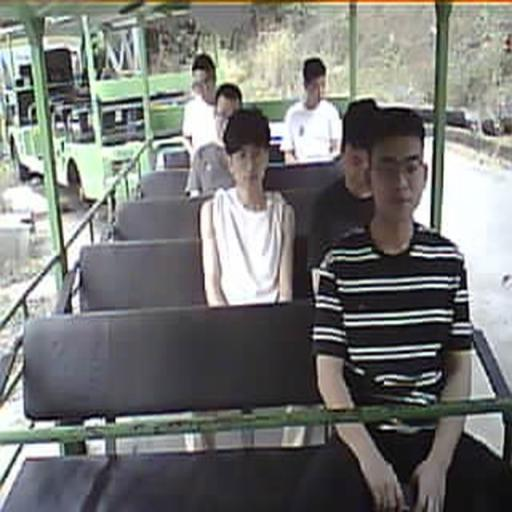persona: (310, 102, 474, 511), (200, 107, 296, 308), (306, 98, 380, 301), (280, 56, 344, 166), (185, 82, 244, 197), (181, 52, 219, 158)
